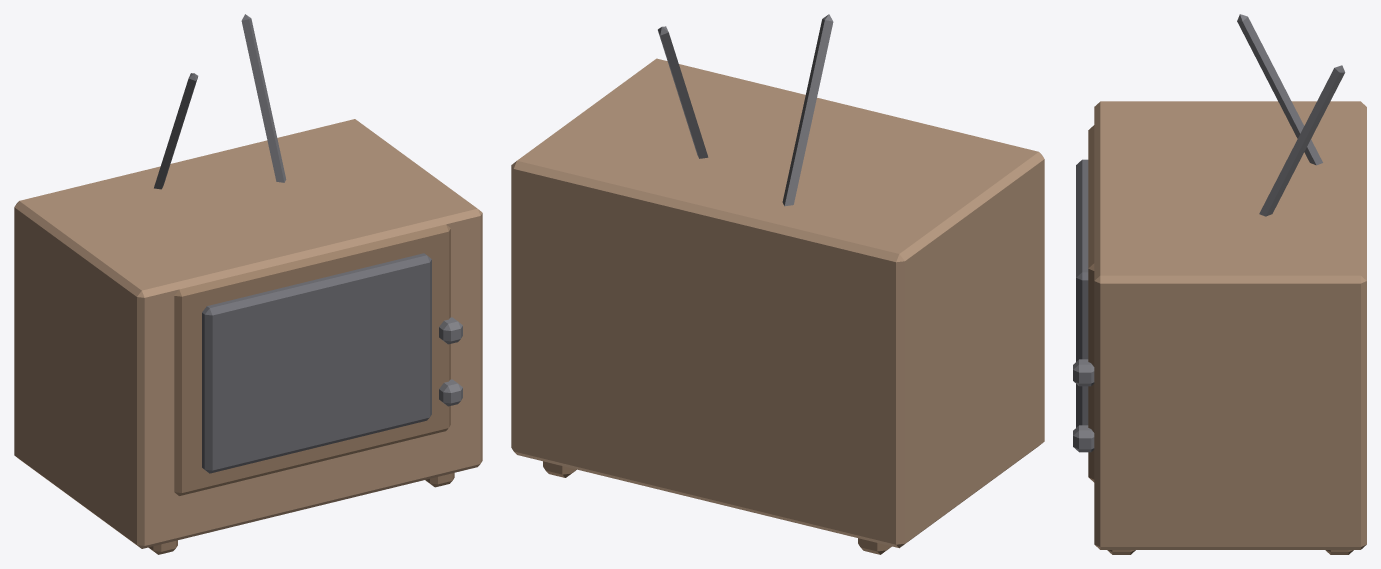
The model's file is SM_TV_Old.fbx.
The picture shows the model from 3 angles, left to right: view 1: azimuth 30°, elevation 25°; view 2: azimuth 150°, elevation 25°; view 3: azimuth 270°, elevation 25°; orthographic projection. The views are drawn at different scales.
Parts seen in each view (by area): view 1: TV_Old; view 2: TV_Old; view 3: TV_Old.
Boxes of the visible parts, x1,y1,x2,y2 form: TV_Old: (14,14,482,554); TV_Old: (511,14,1044,554); TV_Old: (1073,14,1366,554).
Bounding box in the file's own units: 70 × 80.13 × 48.5.
